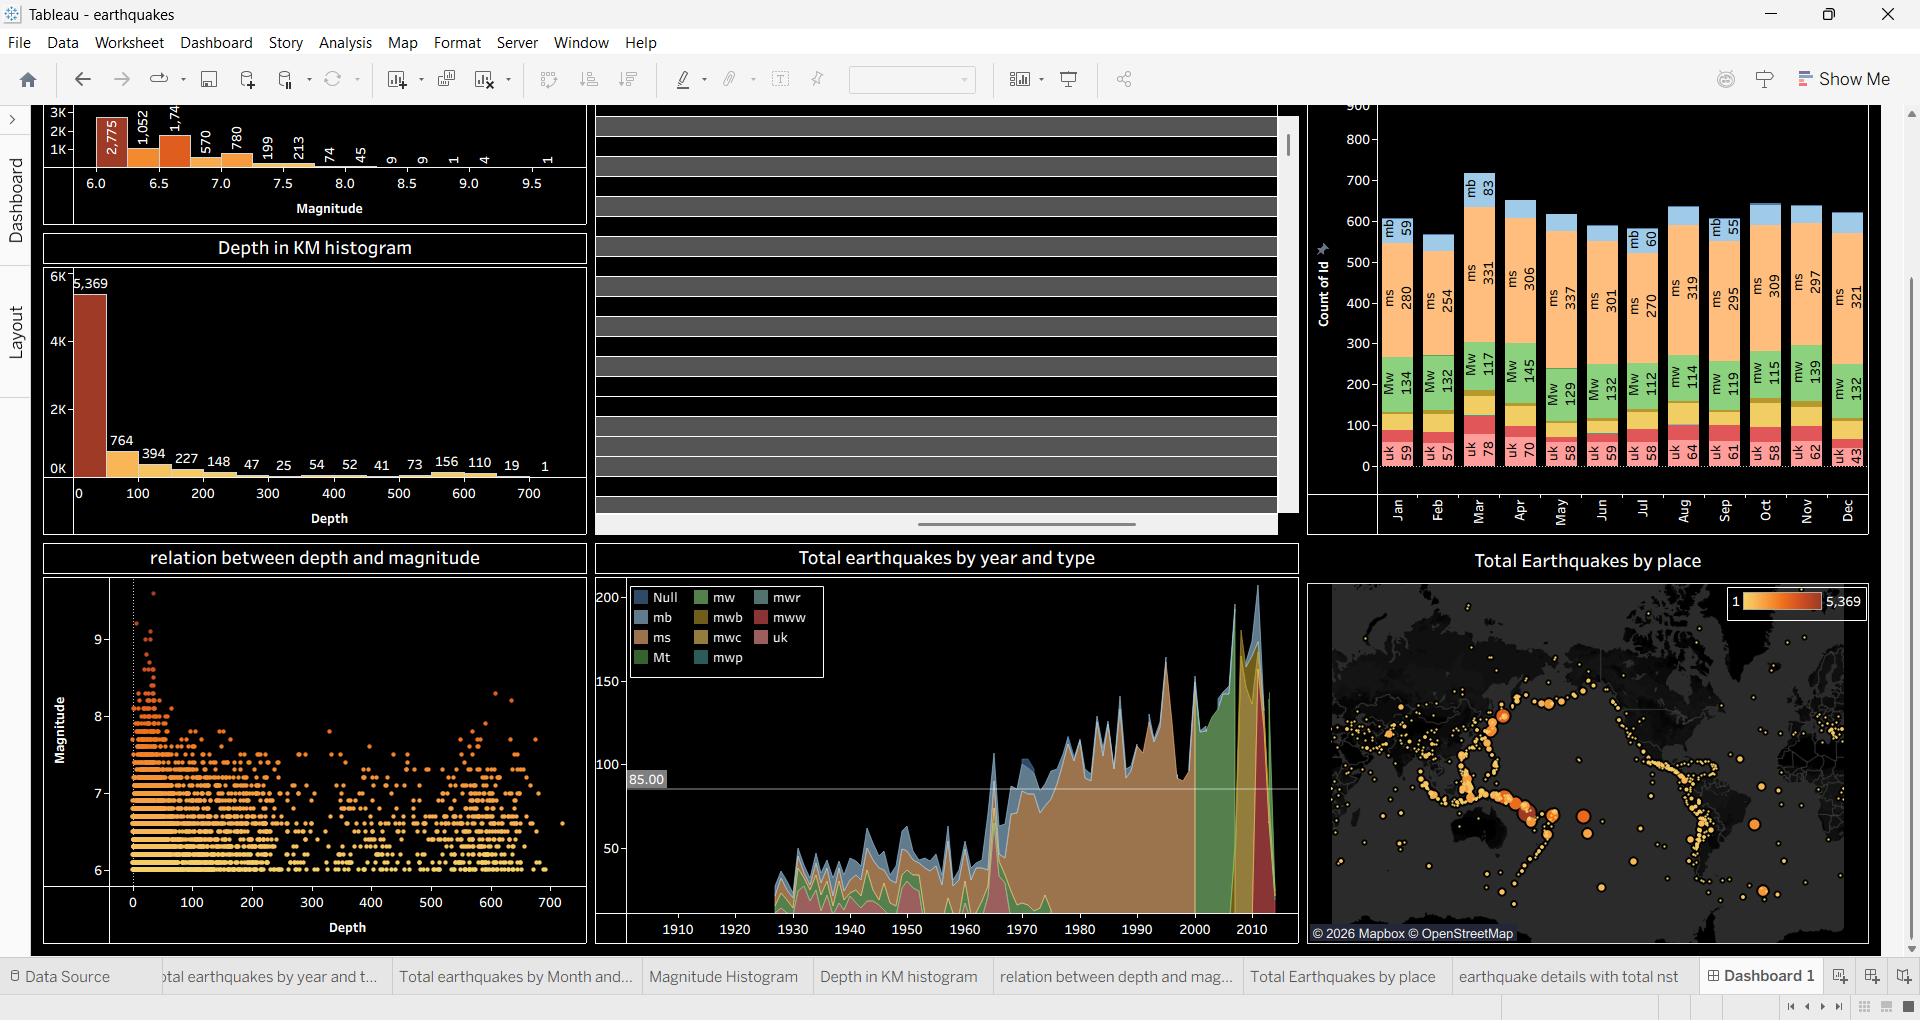

This screenshot's page, from the dashboard's own definition file:
{"tool":"tableau","page":{"name":"Dashboard 1","canvas":[1850,1050],"ordinal":0},"visuals":[{"type":"parameter","param":"[Parameters].[Parameter 1]","box":[8,8,917,75]},{"type":"parameter","param":"[Parameters].[Parameter 2]","box":[925,8,917,75]},{"type":"worksheet","title":"Sheet 1","mark":"Automatic","box":[8,83,272,69]},{"type":"worksheet","title":"Sheet 1 (2)","mark":"Automatic","box":[280,83,256,69]},{"type":"worksheet","title":"Sheet 1 (3)","mark":"Automatic","box":[536,83,286,69]},{"type":"worksheet","title":"Sheet 1 (4)","mark":"Automatic","box":[822,83,246,69]},{"type":"worksheet","title":"Sheet 1 (7)","mark":"Automatic","box":[1068,83,289,69]},{"type":"worksheet","title":"Sheet 1 (5)","mark":"Automatic","box":[1357,83,237,69]},{"type":"worksheet","title":"Sheet 1 (6)","mark":"Automatic","box":[1594,83,248,69]},{"type":"blank","box":[1068,86,3,56]},{"type":"blank","box":[281,87,3,56]},{"type":"blank","box":[1353,87,3,56]},{"type":"blank","box":[535,88,3,56]},{"type":"blank","box":[1589,88,3,56]},{"type":"blank","box":[820,89,3,56]},{"type":"worksheet","title":"Magnitude Histogram","mark":"Automatic","rows":["mag"],"cols":["Mag (bin)"],"box":[8,152,552,170.8]},{"type":"worksheet","title":"earthquake details with total nst","mark":"Automatic","rows":["Date","place","mag","depth"],"box":[560,152,712,481]},{"type":"worksheet","title":"Total earthquakes by Month and type","mark":"Bar","rows":["id"],"cols":["Date"],"box":[1272,152,570,481]},{"type":"worksheet","title":"Depth in KM histogram","mark":"Automatic","rows":["depth"],"cols":["Depth (bin)"],"box":[8,322.7,552,310.3]},{"type":"worksheet","title":"relation between depth and magnitude","mark":"Automatic","rows":["mag"],"cols":["depth"],"box":[8,633,552,409]},{"type":"worksheet","title":"Total earthquakes by year and type","mark":"Area","rows":["id"],"cols":["Date"],"box":[560,633,712,409]},{"type":"worksheet","title":"Total Earthquakes by place","mark":"Automatic","rows":["latitude"],"cols":["longitude"],"box":[1272,633,570,409]},{"type":"legend","title":"Total earthquakes by year and type","param":"[federated.1gb926v1bsrgzx1c43ga11gdp5ag].[none:magType:nk]","box":[599,680,278,75]},{"type":"legend","title":"Depth in KM histogram","param":"[federated.1gb926v1bsrgzx1c43ga11gdp5ag].[cnt:depth:qk]","box":[1696,681,140,34]}]}

Visuals, with their boxes on the page's 1850x1050 design canvas (x1, y1, x2, y2). These are canvas units, not pixel positions in the 1920x1020 screenshot, which may show the page scaled, cropped or inside an application window:
parameter: l=8, t=8, r=925, b=83
parameter: l=925, t=8, r=1842, b=83
"Sheet 1" worksheet: l=8, t=83, r=280, b=152
"Sheet 1 (2)" worksheet: l=280, t=83, r=536, b=152
"Sheet 1 (3)" worksheet: l=536, t=83, r=822, b=152
"Sheet 1 (4)" worksheet: l=822, t=83, r=1068, b=152
"Sheet 1 (7)" worksheet: l=1068, t=83, r=1357, b=152
"Sheet 1 (5)" worksheet: l=1357, t=83, r=1594, b=152
"Sheet 1 (6)" worksheet: l=1594, t=83, r=1842, b=152
blank: l=1068, t=86, r=1071, b=142
blank: l=281, t=87, r=284, b=143
blank: l=1353, t=87, r=1356, b=143
blank: l=535, t=88, r=538, b=144
blank: l=1589, t=88, r=1592, b=144
blank: l=820, t=89, r=823, b=145
"Magnitude Histogram" worksheet: l=8, t=152, r=560, b=323
"earthquake details with total nst" worksheet: l=560, t=152, r=1272, b=633
"Total earthquakes by Month and type" worksheet (Bar marks): l=1272, t=152, r=1842, b=633
"Depth in KM histogram" worksheet: l=8, t=323, r=560, b=633
"relation between depth and magnitude" worksheet: l=8, t=633, r=560, b=1042
"Total earthquakes by year and type" worksheet (Area marks): l=560, t=633, r=1272, b=1042
"Total Earthquakes by place" worksheet: l=1272, t=633, r=1842, b=1042
"Total earthquakes by year and type" legend: l=599, t=680, r=877, b=755
"Depth in KM histogram" legend: l=1696, t=681, r=1836, b=715
